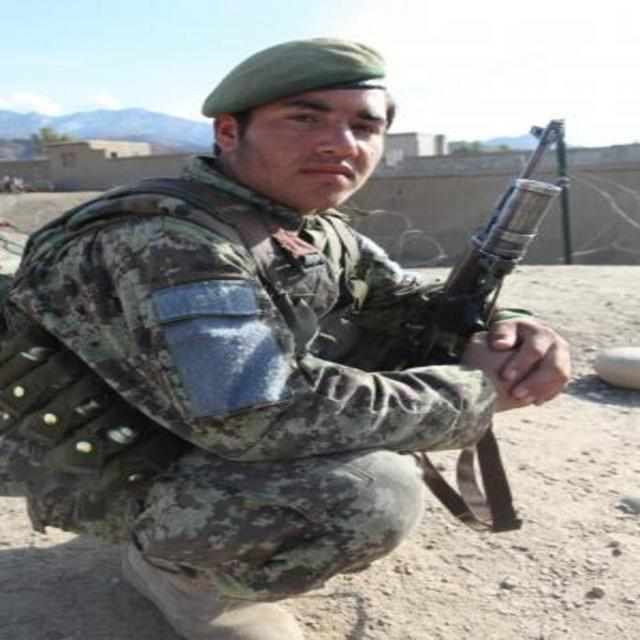weapon: (403, 116, 559, 354)
